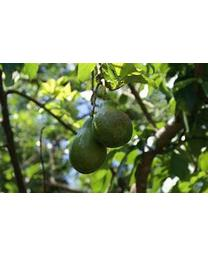avocado: (69, 118, 111, 175), (93, 100, 133, 149)
